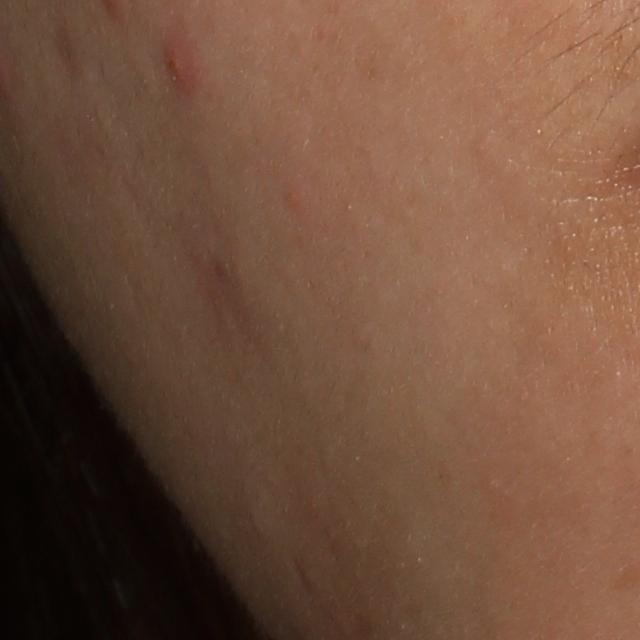papule: (156, 31, 201, 100), (282, 180, 307, 207)
